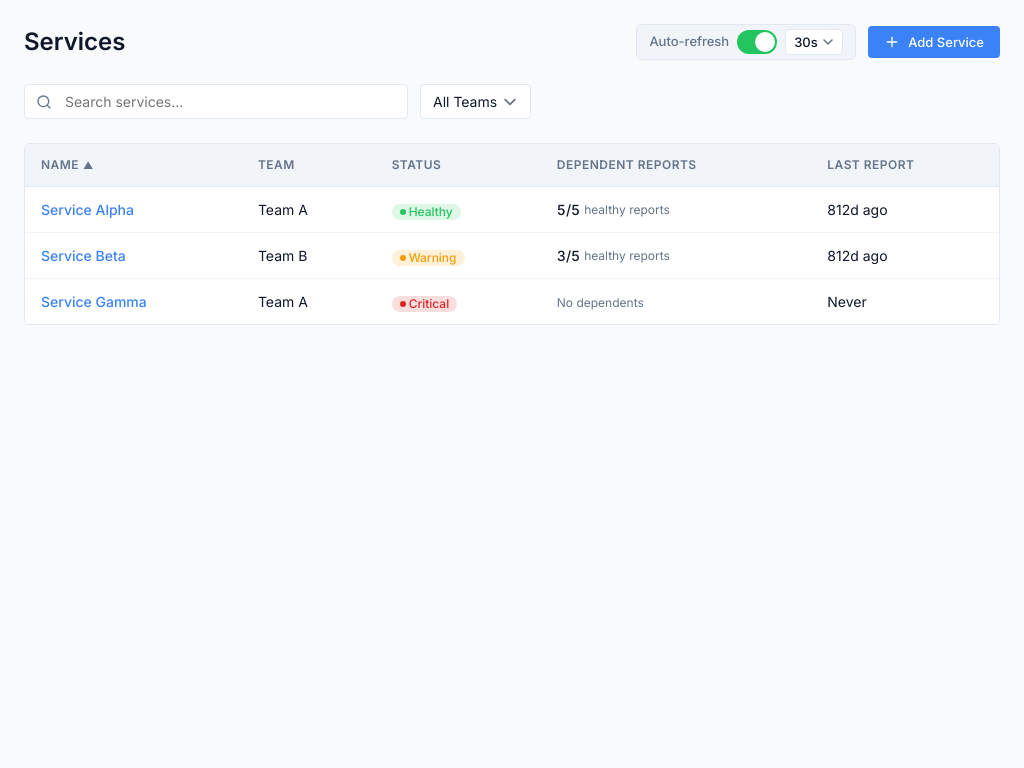
Scenario: ServicesList › opens add service modal when button clicked
Click the button "Add Service": click(934, 42) [868, 26, 1000, 58]
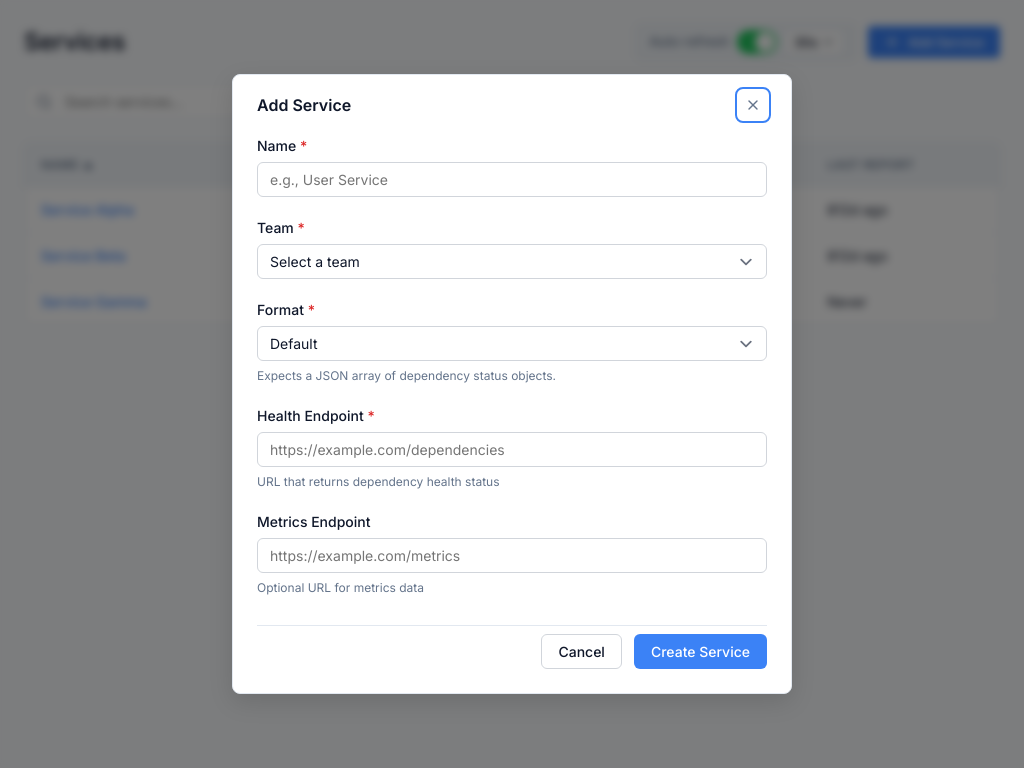
Check: the dialog is shown, box [232, 74, 792, 694]
